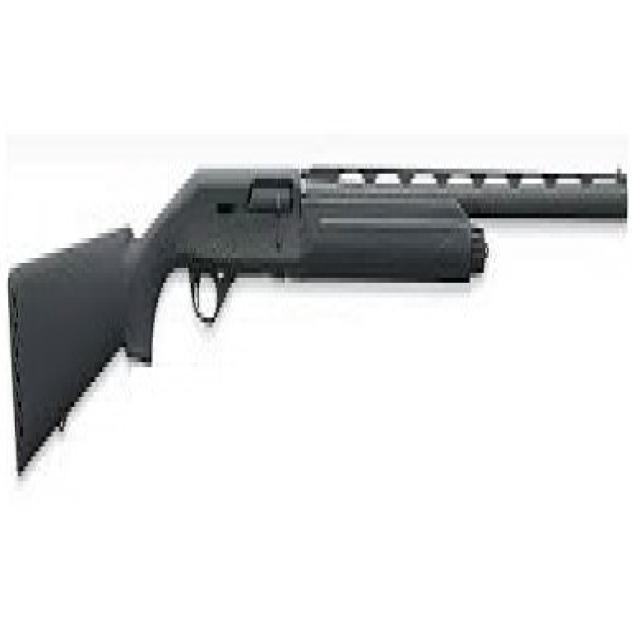rifle: (5, 154, 631, 496)
